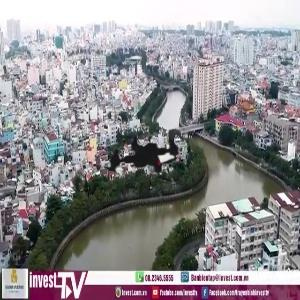drone: (88, 108, 203, 223)
